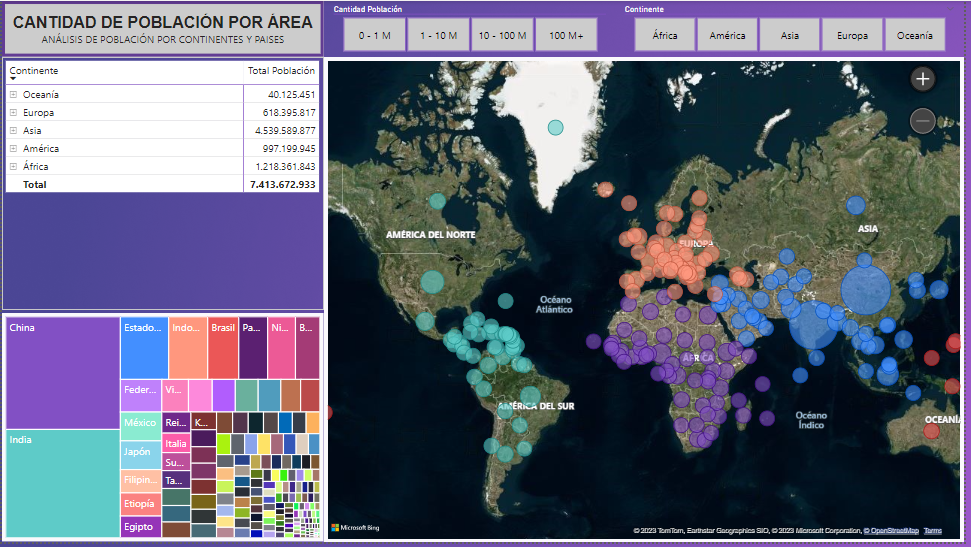

Layout of this report page (visuals, bound fields, positions):
{"tool":"powerbi","page":{"name":"Población por área","canvas":[1280,720],"ordinal":0},"visuals":[{"type":"pivotTable","fields":{"Values":["Sum(Population.Population)"],"Rows":["Paises.Continente","Paises.Pais"]},"box":[0,74.3,428,337.2],"z":0},{"type":"slicer","fields":{"Values":["Population.Cantidad Población"]},"box":[428,0,388.1,74.3],"z":1000},{"type":"slicer","fields":{"Values":["Paises.Continente"]},"box":[816.2,0,463.8,74.3],"z":2000},{"type":"treemap","fields":{"Group":["Paises.Pais"],"Values":["Sum(Population.Population)"]},"box":[0,415.7,428,304.2],"z":3000},{"type":"map","fields":{"Category":["Paises.Pais"],"Size":["Sum(Population.Population)"],"Series":["Paises.Continente"]},"box":[428,74.3,852,645.5],"z":4000},{"type":"shape","box":[0,0,428,74.3],"z":5000},{"type":"textbox","box":[0,12.4,428,61.9],"z":6001}]}

Visuals, with their boxes in screenshot pixels (x1, y1, x2, y2), scaled from the page's 1280x720 canvas onto the 971x547 screenshot:
pivotTable - Sum(Population.Population) x Paises.Continente: l=0, t=56, r=325, b=313
slicer - Population.Cantidad Población: l=325, t=0, r=619, b=56
slicer - Paises.Continente: l=619, t=0, r=970, b=56
treemap - Paises.Pais x Sum(Population.Population): l=0, t=316, r=325, b=546
map - Paises.Pais x Sum(Population.Population): l=325, t=56, r=970, b=546
shape: l=0, t=0, r=325, b=56
textbox: l=0, t=9, r=325, b=56
